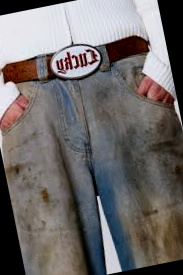earth: (158, 212, 183, 262), (172, 161, 183, 186), (37, 184, 50, 204), (8, 162, 22, 179)
